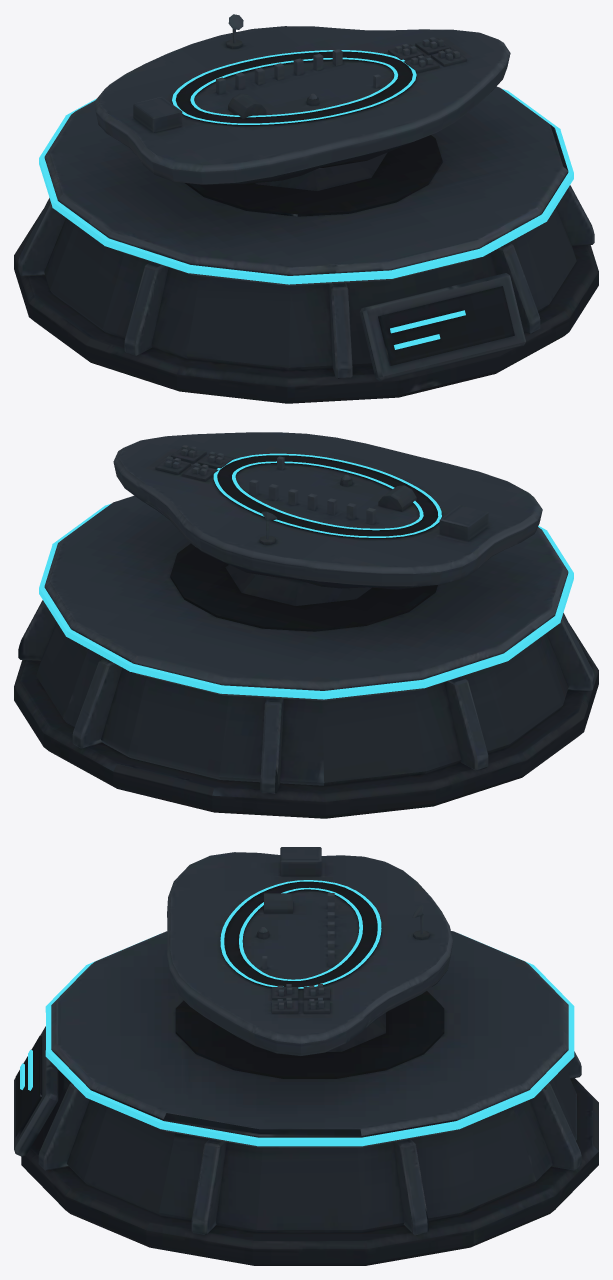
File: island-model.glb
3 views of the same model, one above another, from view 1: azimuth 30°, elevation 25°; view 2: azimuth 150°, elevation 25°; view 3: azimuth 270°, elevation 25° (orthographic).
Visible parts, largest first — view 1: pedestal, miniature, trim; view 2: pedestal, miniature, trim; view 3: pedestal, miniature, trim.
Boxes of the visible parts, left/top/right/bottom form: pedestal: left=14, top=86, right=598, bottom=403; miniature: left=95, top=14, right=510, bottom=184; trim: left=39, top=89, right=573, bottom=349; pedestal: left=14, top=495, right=598, bottom=818; miniature: left=113, top=432, right=542, bottom=589; trim: left=39, top=504, right=573, bottom=699; pedestal: left=14, top=931, right=598, bottom=1265; miniature: left=167, top=847, right=453, bottom=1055; trim: left=20, top=933, right=574, bottom=1146.
Bounding box in the file's own units: 3.37 × 1.5 × 3.42.
2 materials, 1 textured.
